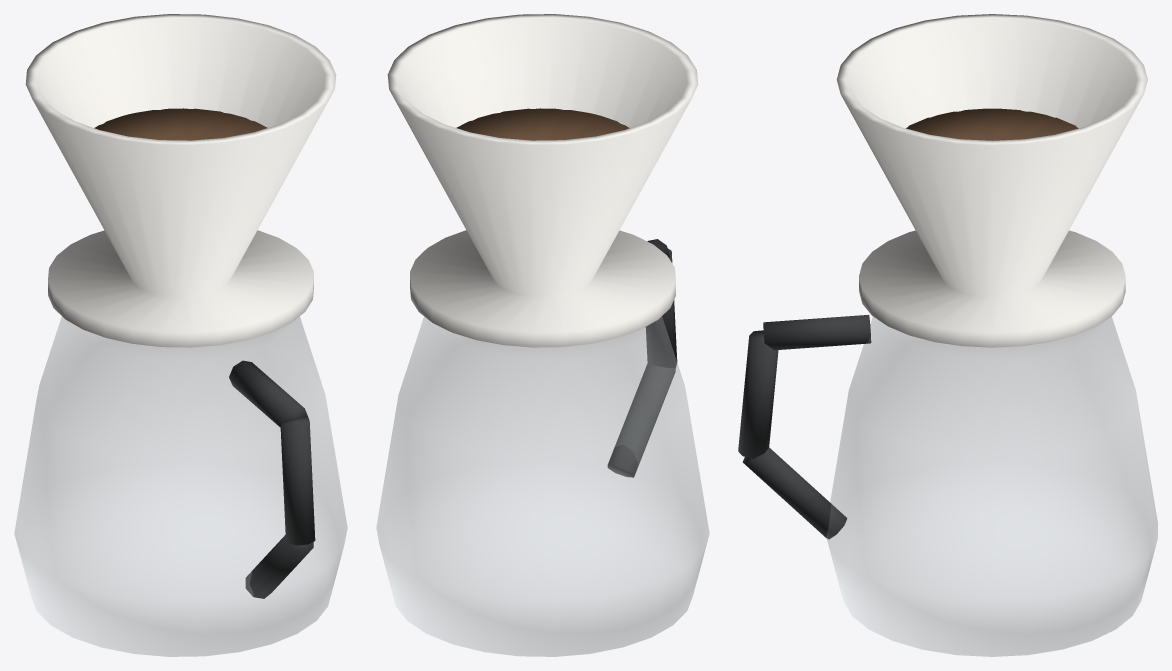
The model's file is coffee_dripper_set.glb.
3 renders of one model, left to right at view 1: azimuth 30°, elevation 25°; view 2: azimuth 150°, elevation 25°; view 3: azimuth 270°, elevation 25°, orthographic.
Parts seen in each view (by area): view 1: CoffeeCarafeGlass, V60Dripper, CoffeeCarafeHandle, CoffeeGrounds; view 2: CoffeeCarafeGlass, V60Dripper, CoffeeCarafeHandle, CoffeeGrounds; view 3: CoffeeCarafeGlass, V60Dripper, CoffeeCarafeHandle, CoffeeGrounds.
Part boxes in pixels (bbox=[...]): CoffeeCarafeGlass: bbox=[14, 316, 347, 656]; V60Dripper: bbox=[25, 14, 336, 347]; CoffeeCarafeHandle: bbox=[229, 360, 315, 598]; CoffeeGrounds: bbox=[94, 108, 267, 140]; CoffeeCarafeGlass: bbox=[376, 316, 709, 656]; V60Dripper: bbox=[387, 14, 698, 347]; CoffeeCarafeHandle: bbox=[607, 239, 677, 477]; CoffeeGrounds: bbox=[456, 108, 629, 140]; CoffeeCarafeGlass: bbox=[826, 316, 1157, 656]; V60Dripper: bbox=[836, 14, 1147, 347]; CoffeeCarafeHandle: bbox=[738, 315, 871, 539]; CoffeeGrounds: bbox=[906, 108, 1078, 140].
Size of the model in its own units: 0.12 by 0.204 by 0.151.
